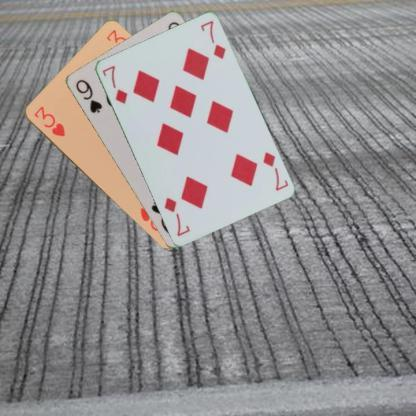3h: (30, 104, 66, 138)
7d: (99, 63, 129, 106), (260, 148, 289, 192)
9s: (72, 76, 104, 114)
